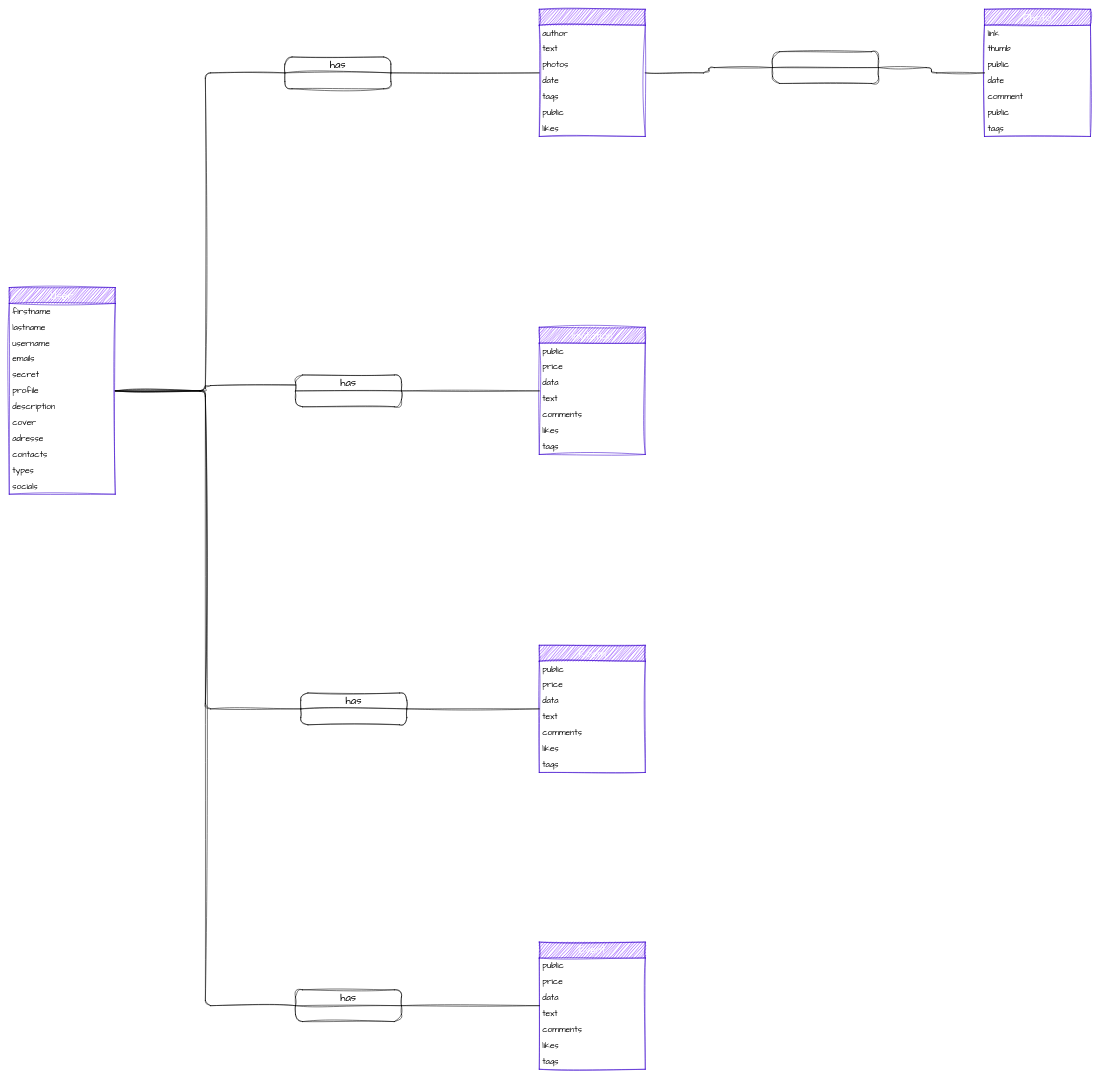
The diagram is 1100 pixels wide and 1079 high, and some of its shapes have lost their labels. Here are the shapes that lost their labels. From the top down, the box of each, then its label:
(539, 9, 645, 136): Post
(772, 51, 878, 83): contains
